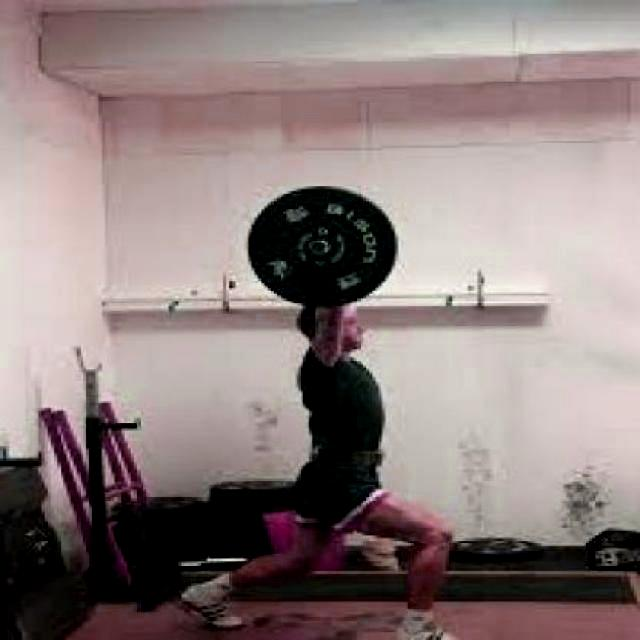barbell: (242, 182, 405, 315)
